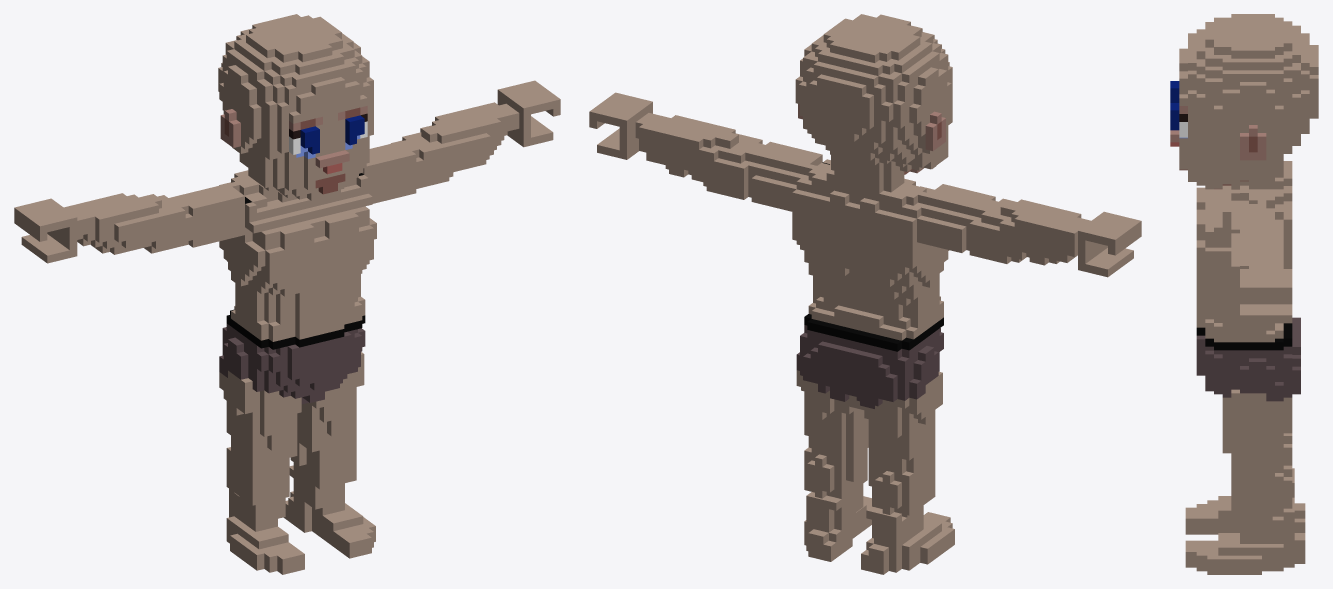
3 renders of one model, left to right at view 1: azimuth 30°, elevation 25°; view 2: azimuth 150°, elevation 25°; view 3: azimuth 270°, elevation 25°, orthographic.
Visible parts, largest first — view 1: TORSO_LowPoly, HEAD_LowPoly, LEGS_LowPoly, RIGHT_ARM_LowPoly, FEET_LowPoly, LEFT_ARM_LowPoly; view 2: TORSO_LowPoly, HEAD_LowPoly, LEGS_LowPoly, LEFT_ARM_LowPoly, RIGHT_ARM_LowPoly, FEET_LowPoly; view 3: HEAD_LowPoly, LEGS_LowPoly, TORSO_LowPoly, FEET_LowPoly, LEFT_ARM_LowPoly.
Boxes of the visible parts, bbox=[...] form: TORSO_LowPoly: bbox=[176, 142, 416, 349]; HEAD_LowPoly: bbox=[218, 14, 373, 200]; LEGS_LowPoly: bbox=[219, 323, 365, 505]; RIGHT_ARM_LowPoly: bbox=[14, 193, 192, 263]; FEET_LowPoly: bbox=[226, 465, 375, 574]; LEFT_ARM_LowPoly: bbox=[391, 80, 560, 188]; TORSO_LowPoly: bbox=[748, 141, 995, 351]; HEAD_LowPoly: bbox=[795, 14, 952, 193]; LEGS_LowPoly: bbox=[796, 325, 943, 515]; LEFT_ARM_LowPoly: bbox=[589, 92, 764, 199]; RIGHT_ARM_LowPoly: bbox=[969, 198, 1141, 277]; FEET_LowPoly: bbox=[804, 484, 954, 574]; HEAD_LowPoly: bbox=[1170, 14, 1318, 189]; LEGS_LowPoly: bbox=[1196, 317, 1300, 515]; TORSO_LowPoly: bbox=[1196, 161, 1292, 350]; FEET_LowPoly: bbox=[1185, 468, 1305, 574]; LEFT_ARM_LowPoly: bbox=[1231, 229, 1292, 323].
Bounding box in the file's own units: 28 × 26 × 6.8.
Materials: 6 (6 with a texture image).
